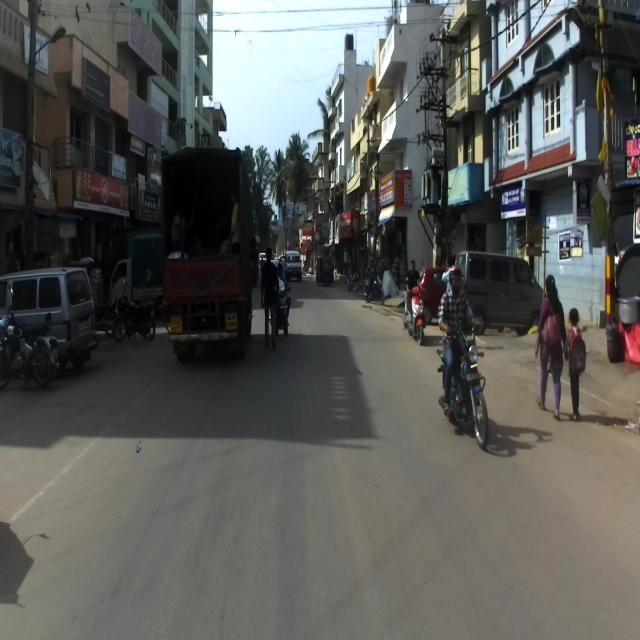motorcycle ahead at: (437, 324, 491, 450), (0, 295, 59, 394)
truck ahead at: (160, 139, 256, 368)
